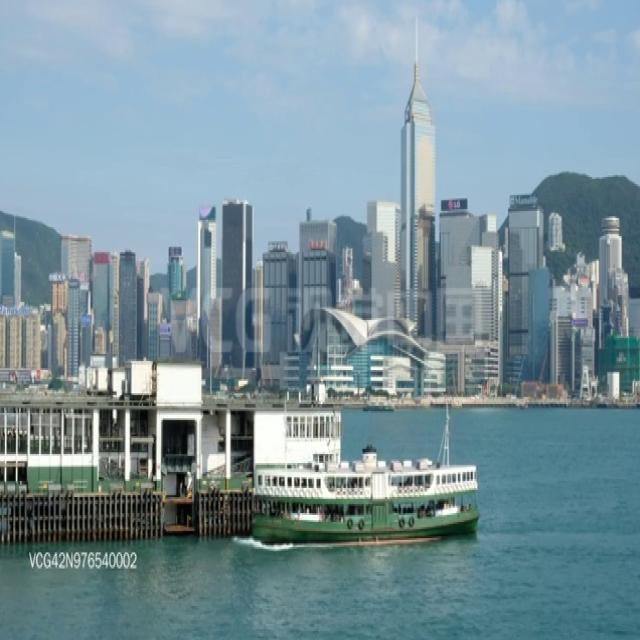passenger ship: (246, 445, 477, 543)
